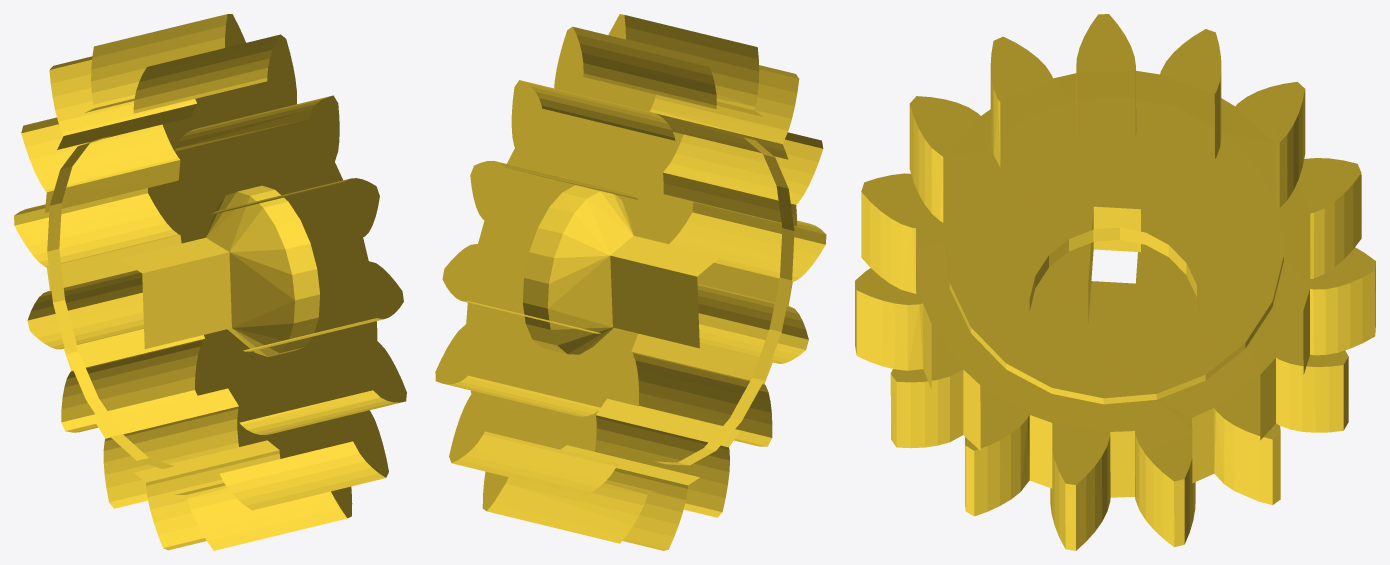
The model's file is G-__566220.010.dae.light.glb.
3 views of the same model, side by side, from view 1: azimuth 30°, elevation 25°; view 2: azimuth 150°, elevation 25°; view 3: azimuth 270°, elevation 25° (orthographic).
Size of the model in its own units: 0.0675 by 0.2062 by 0.2064.
